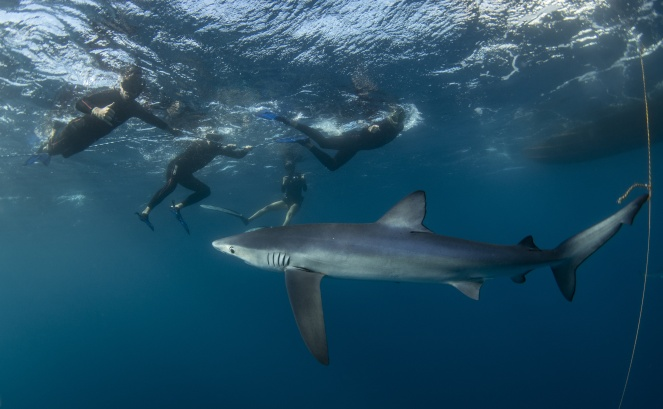Azul: (198, 173, 662, 370)
